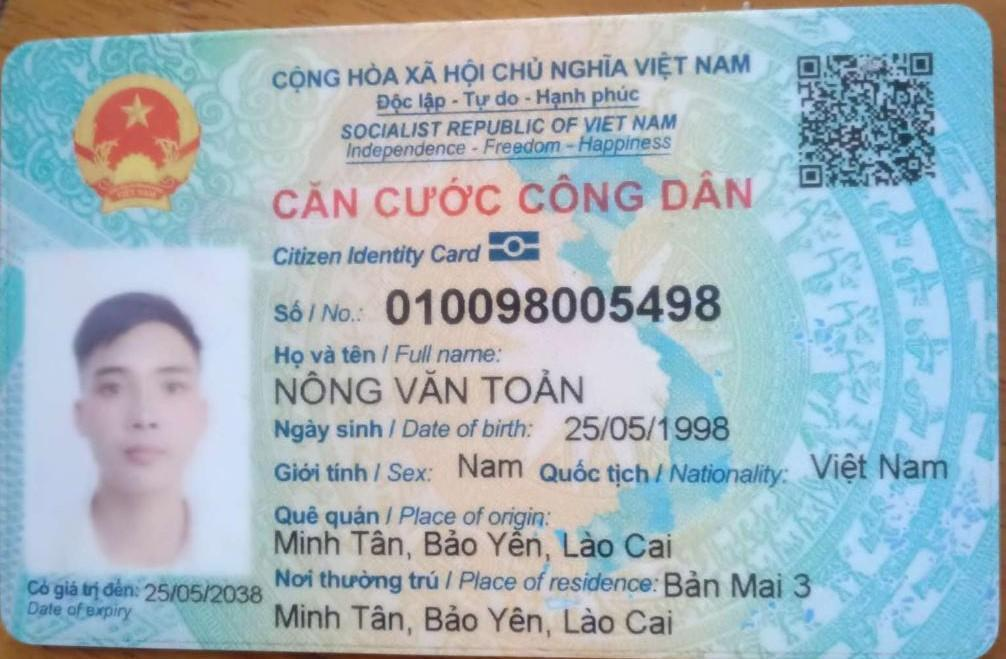ID: (379, 276, 727, 331)
birth: (558, 410, 734, 449)
name: (268, 365, 588, 409)
place: (263, 524, 694, 566)
residence: (266, 598, 682, 643), (655, 565, 818, 607)
